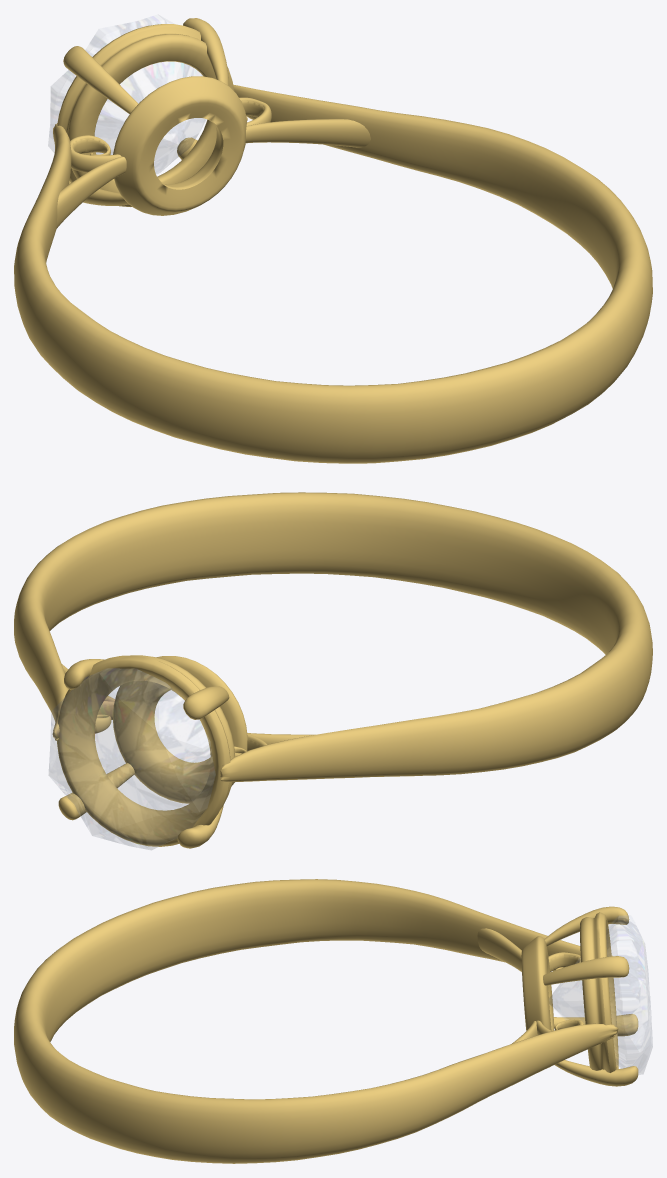
Rendered from elmas-yuzuk.glb.
3 renders of one model, top to bottom at view 1: azimuth 30°, elevation 25°; view 2: azimuth 150°, elevation 25°; view 3: azimuth 270°, elevation 25°, orthographic. The views are drawn at different scales.
Parts seen in each view (by area): view 1: Diamond ring., Diamond, small_elements; view 2: Diamond ring., Diamond; view 3: Diamond ring., Diamond.
Part boxes in pixels (x1,y1,x2,y2): Diamond ring.: [14, 18, 652, 463]; Diamond: [48, 15, 205, 173]; small_elements: [70, 97, 271, 172]; Diamond ring.: [14, 492, 652, 848]; Diamond: [49, 668, 215, 849]; Diamond ring.: [14, 879, 638, 1163]; Diamond: [549, 915, 652, 1074].
Size of the model in its own units: 0.024 by 0.00746 by 0.028.
Materials: 7 (1 with a texture image).
